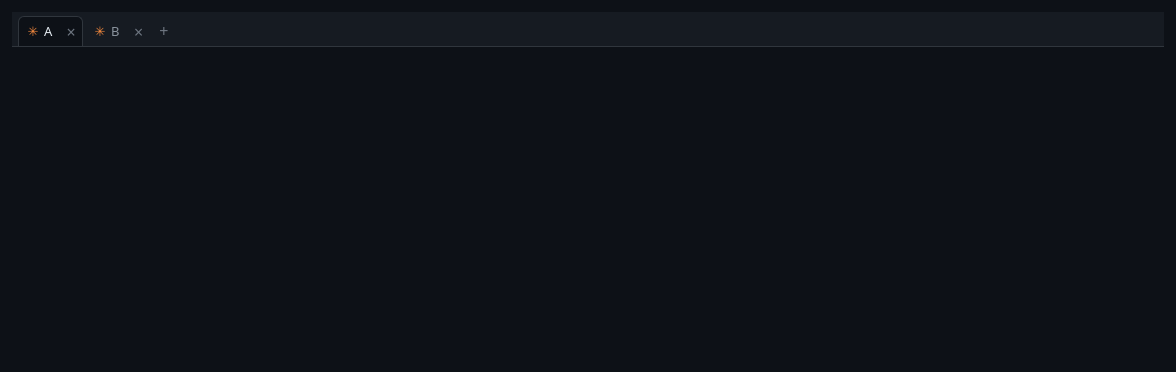
Scenario: TabBar split tabs › the menu splits an unsplit tab and disables Split on one that already has two panes
Right-click the tab "✳ A" at (40, 32), box x1=19 y1=17 x2=60 y2=46
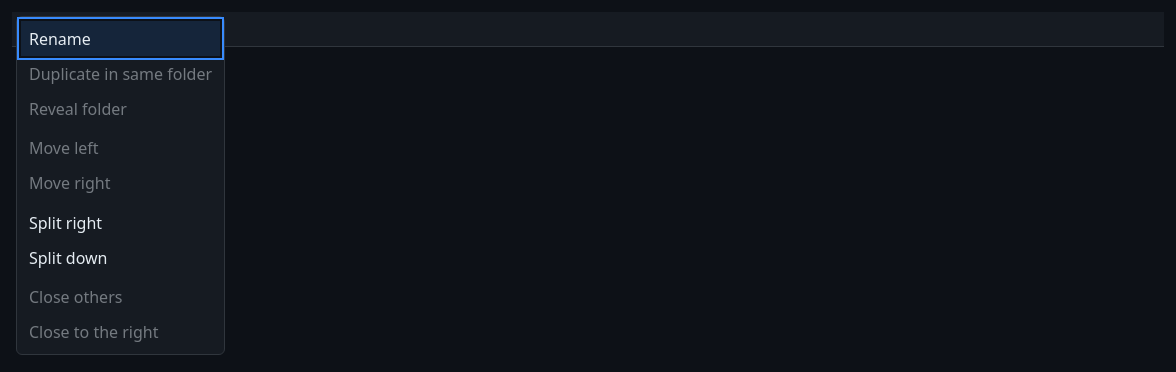
Click the menu item "Split right" at (120, 222), box x1=21 y1=205 x2=220 y2=240
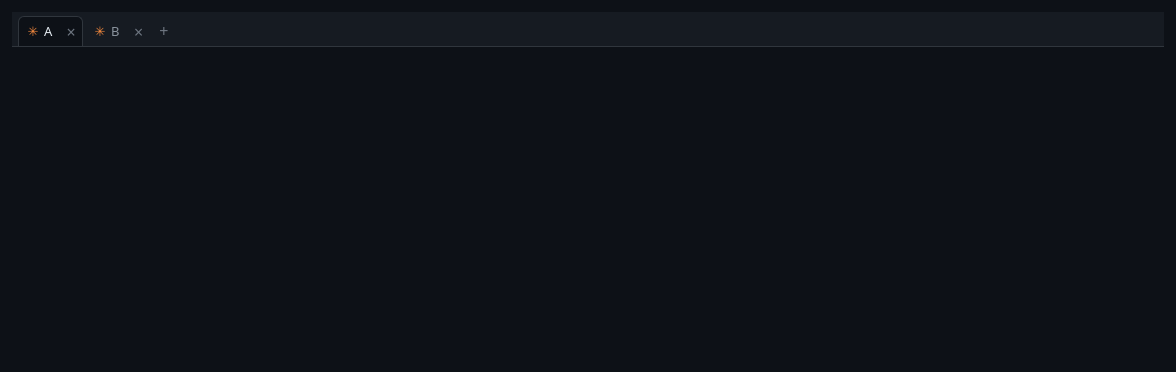
Right-click the tab "✳ A" at (40, 32), box x1=19 y1=17 x2=60 y2=46
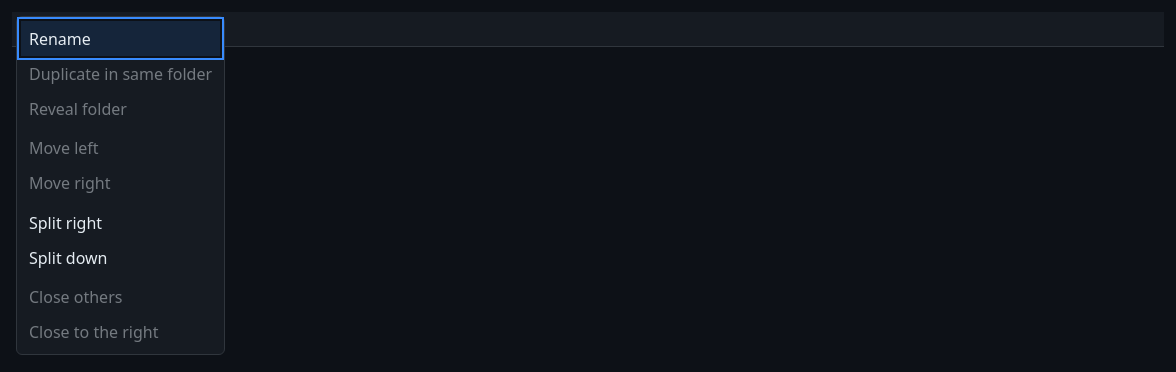
Click the menu item "Split down" at (120, 258), box x1=21 y1=240 x2=220 y2=275
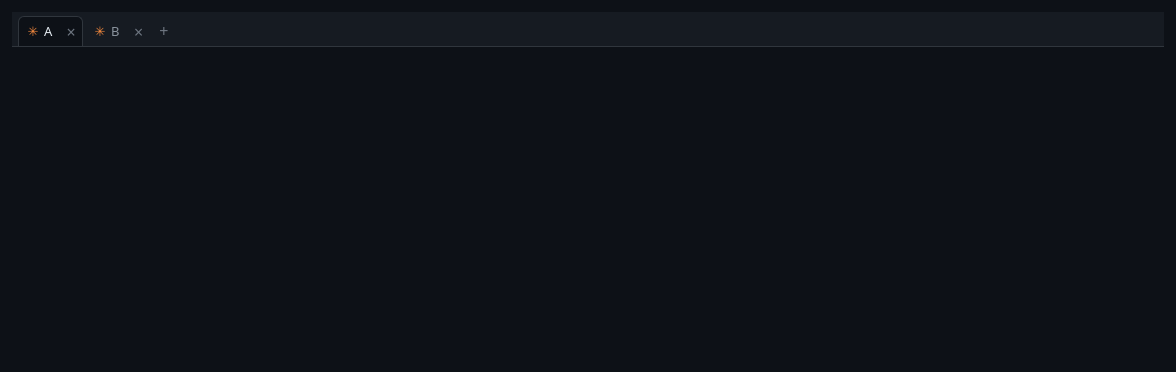
Right-click the tab "✳ B" at (107, 32), box x1=86 y1=17 x2=128 y2=46
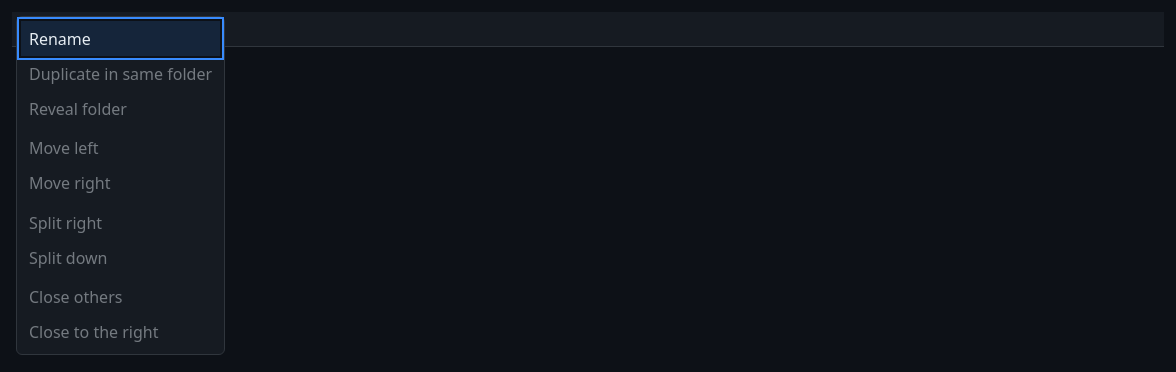
expect the menu item "Split right" is disabled: met, box x1=21 y1=205 x2=220 y2=240
expect the menu item "Split down" is disabled: met, box x1=21 y1=240 x2=220 y2=275
